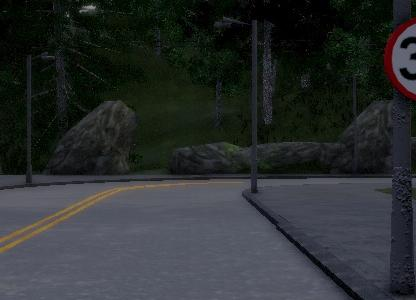Speed_30: (382, 13, 416, 104)
